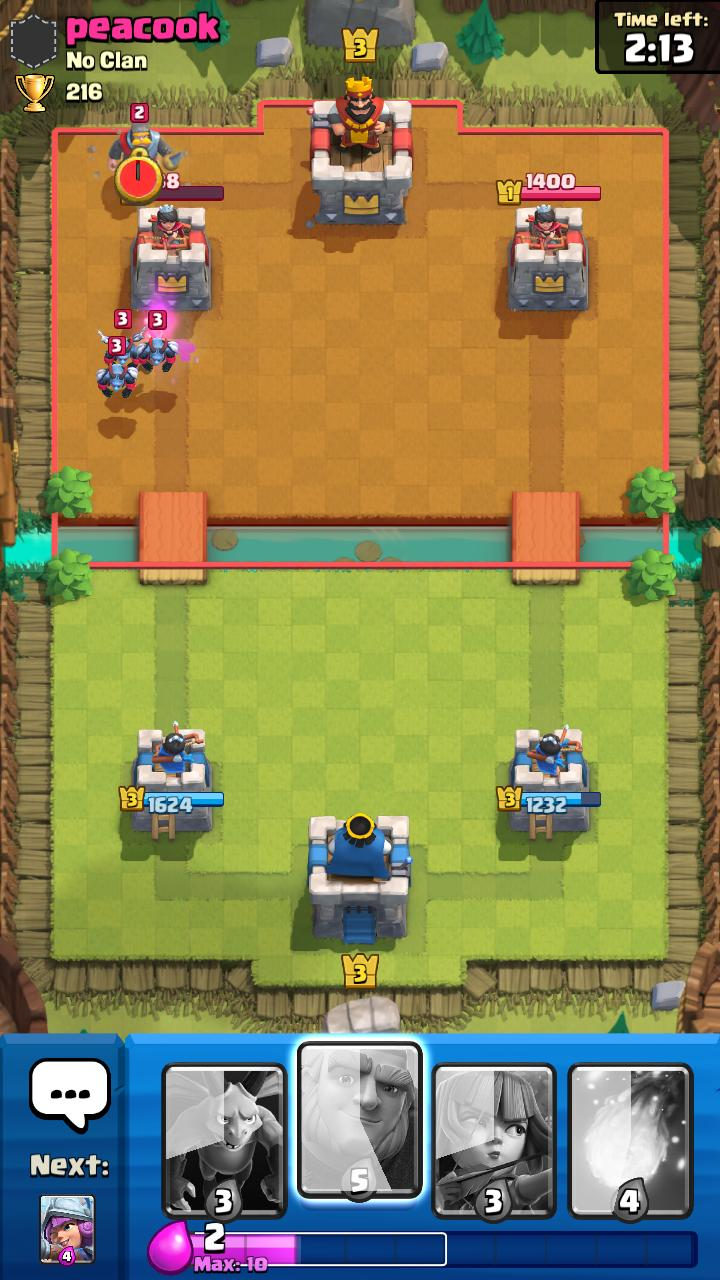enemy: (108, 103, 182, 172), (95, 309, 148, 368), (137, 310, 179, 372), (96, 336, 138, 398)
